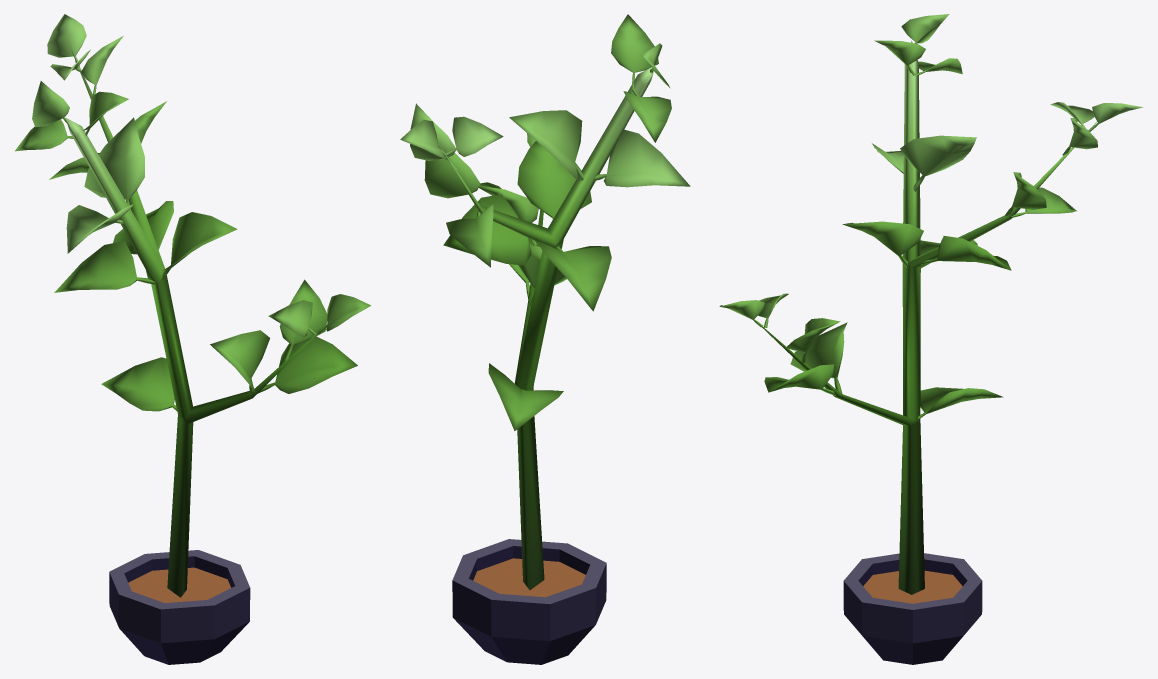
File: pfp05.fbx
3 views of the same model, side by side, from view 1: azimuth 30°, elevation 25°; view 2: azimuth 150°, elevation 25°; view 3: azimuth 270°, elevation 25° (orthographic). The views are drawn at different scales.
Visible parts, largest first — view 1: pfp05; view 2: pfp05; view 3: pfp05.
Part boxes in pixels (<box>): pfp05: <box>15,14,370,664</box>; pfp05: <box>400,14,690,664</box>; pfp05: <box>719,14,1142,664</box>.
Bounding box in the file's own units: 55.32 × 125 × 83.83.
